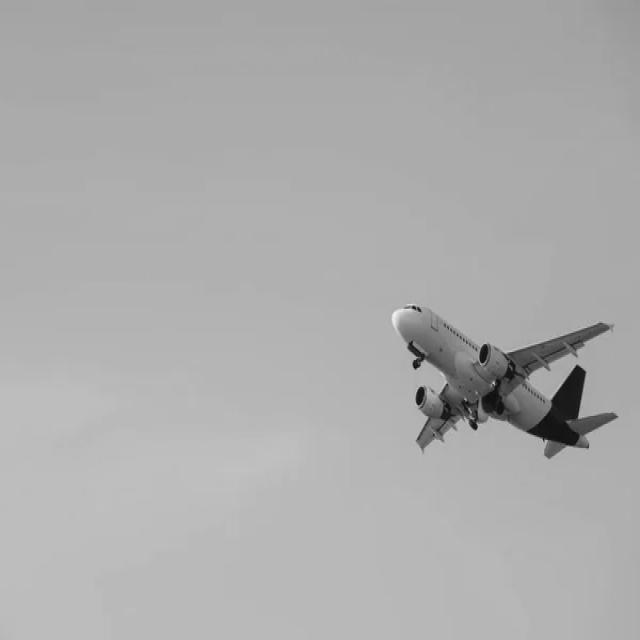Aircraft: (389, 292, 623, 472)
